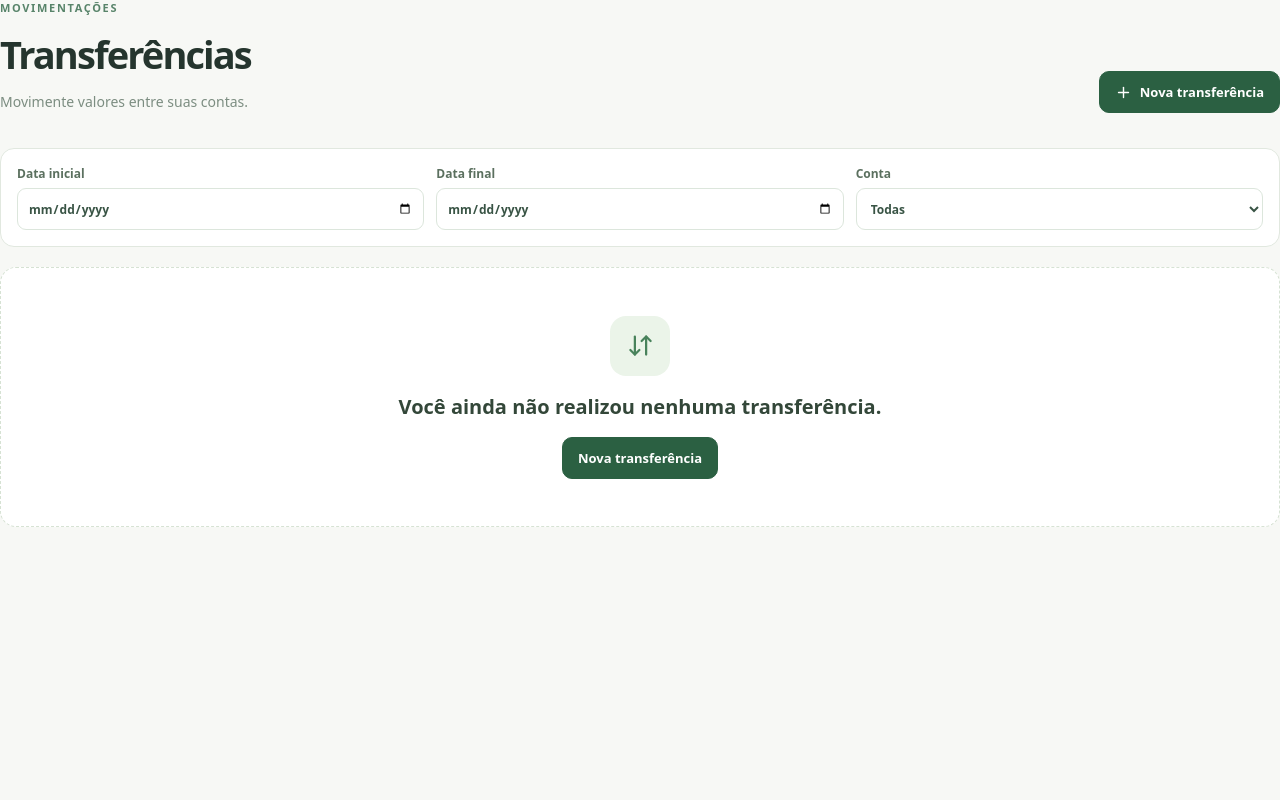
Scenario: 9: mesma conta bloqueada
The width and height of the screenshot is (1280, 800).
Click the button "Nova transferência" in the row of "Transferências" at {"x": 1189, "y": 92}, box [1099,71,1279,113]
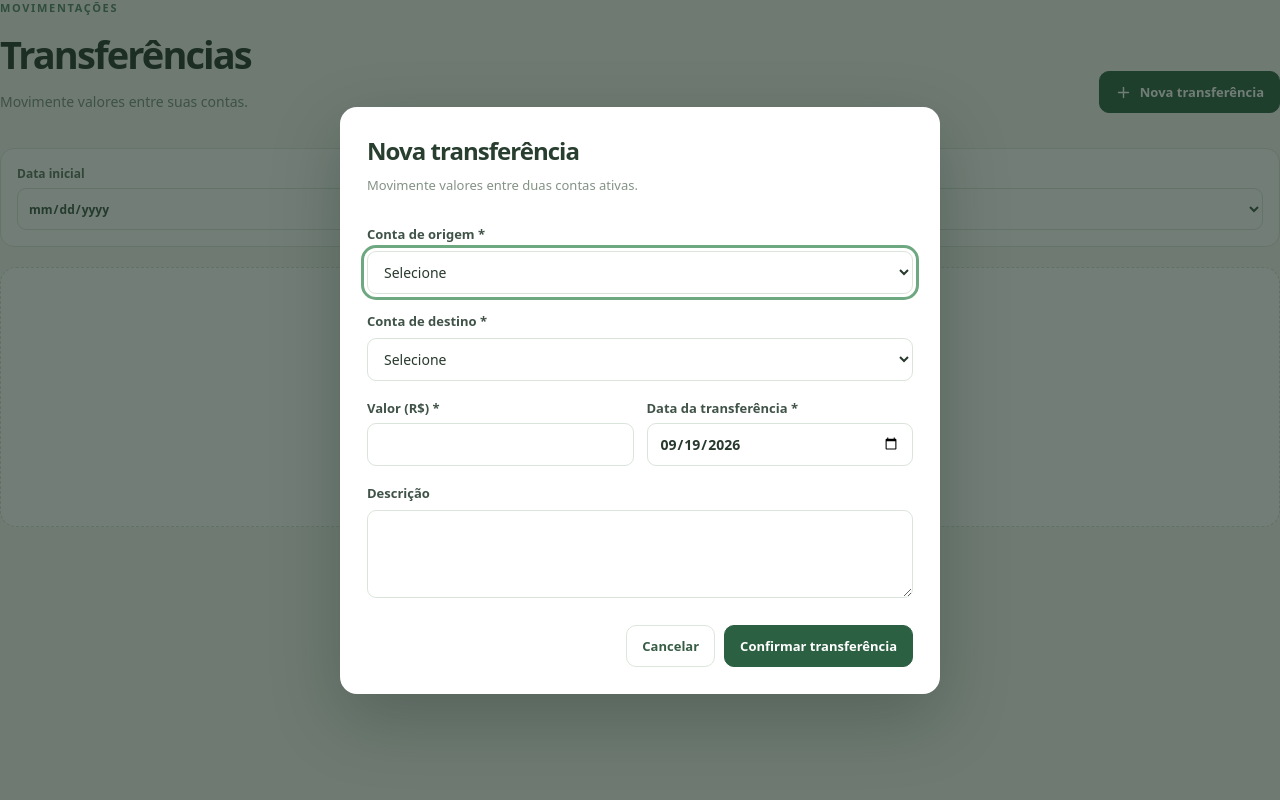
Select "Itaú" in the dropdown labelled "Conta de origem *" at {"x": 640, "y": 272}, box [367,250,913,294]
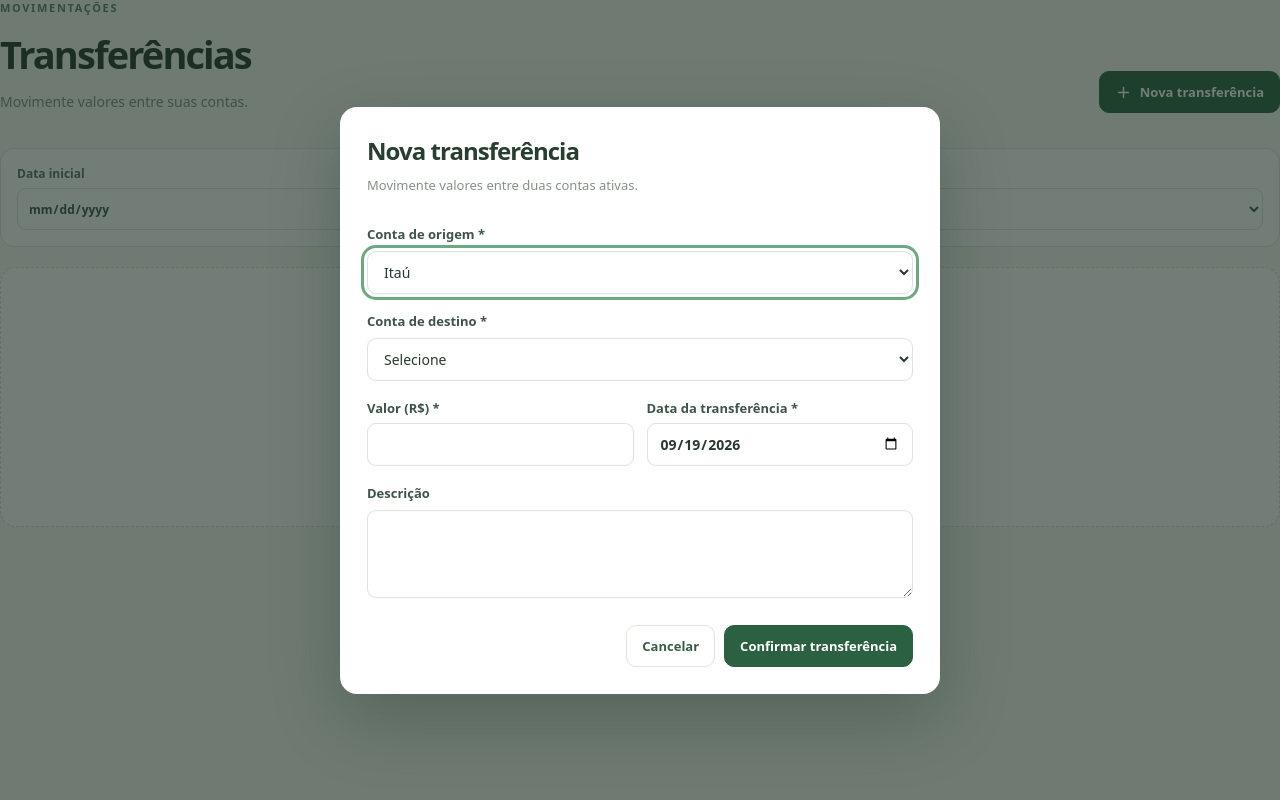
Select "Itaú" in the dropdown labelled "Conta de destino *" at {"x": 640, "y": 359}, box [367,338,913,380]
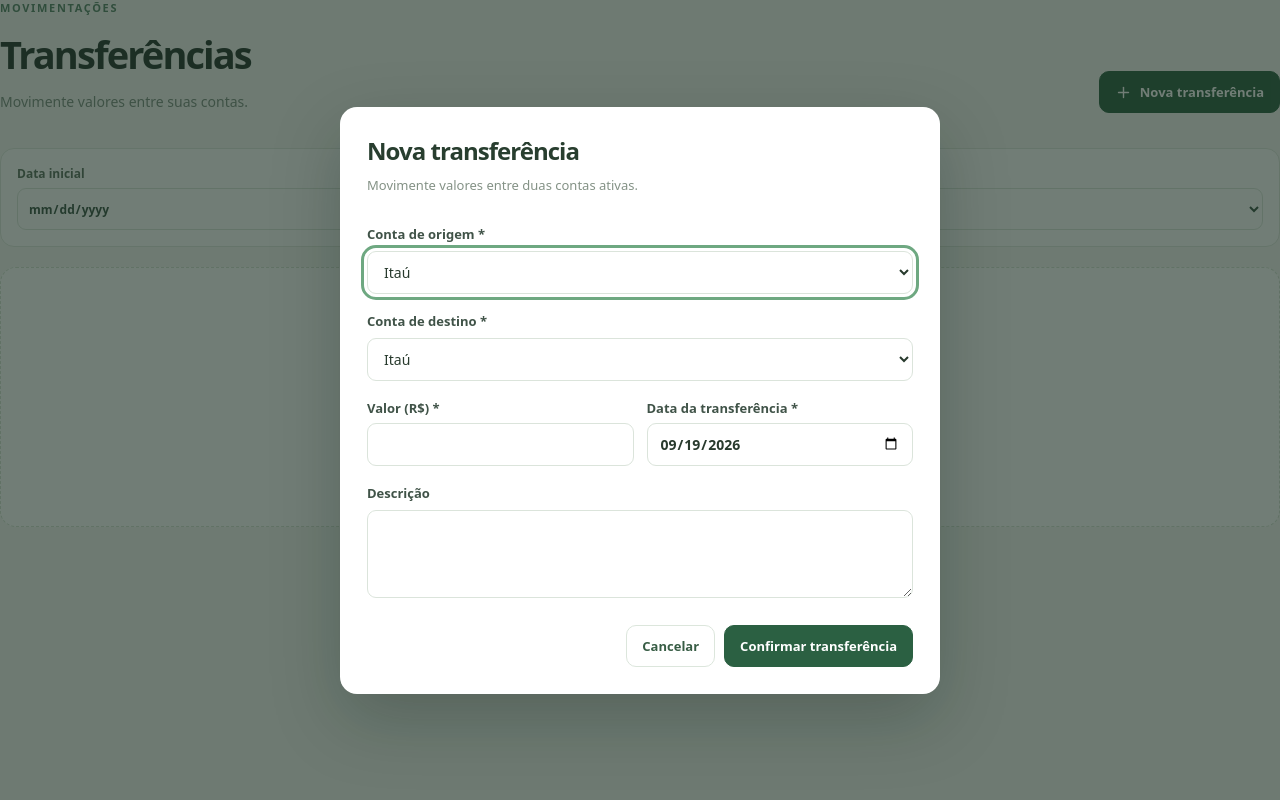
Click the button "Confirmar transferência" at {"x": 819, "y": 646}, box [724,624,913,666]
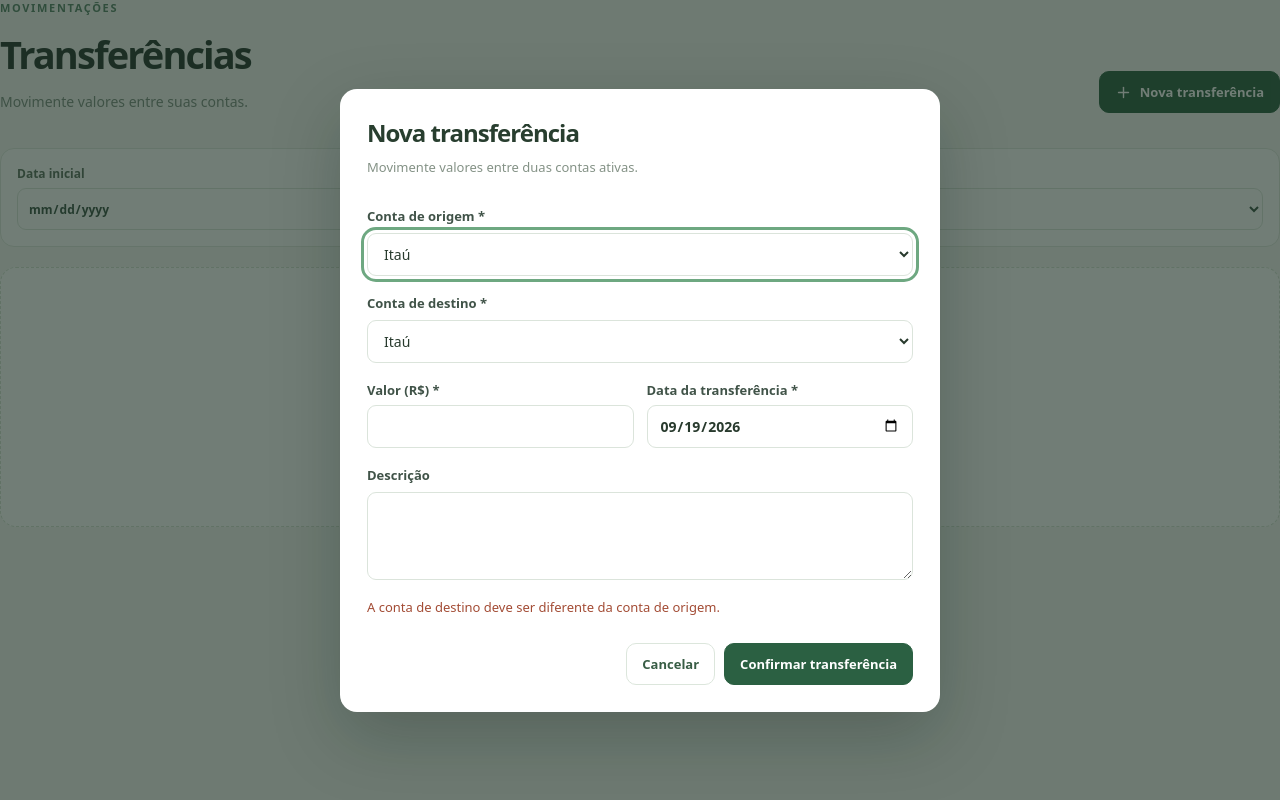
Expected: the message shows "diferente", [367,598,720,616]
